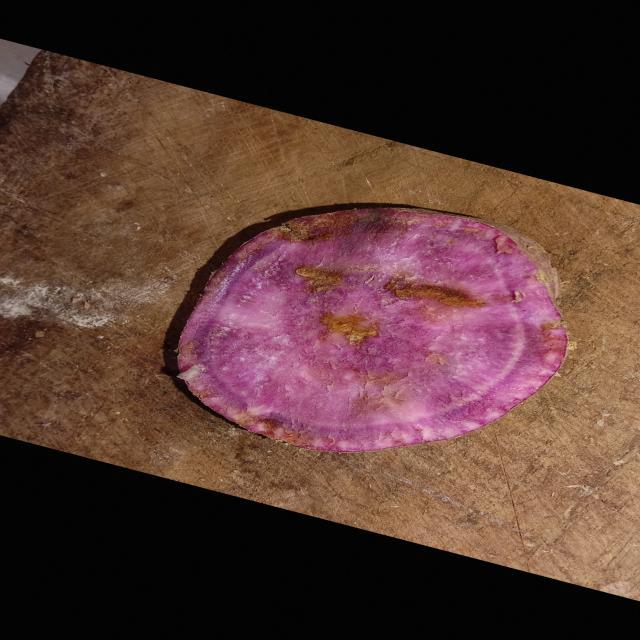Sick Sweet Potato_Tuber Rot: (178, 208, 567, 452)
